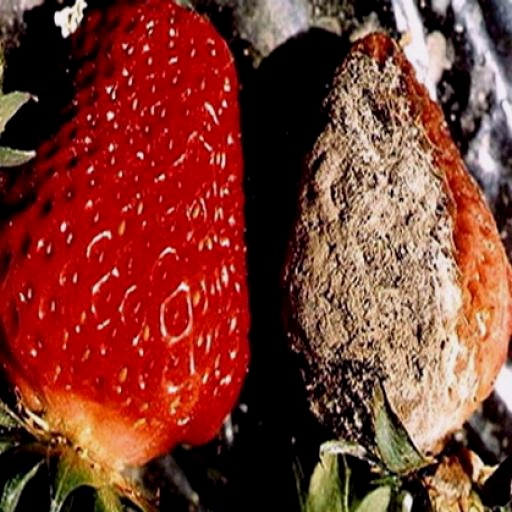Gray Mold: (281, 35, 511, 478)
